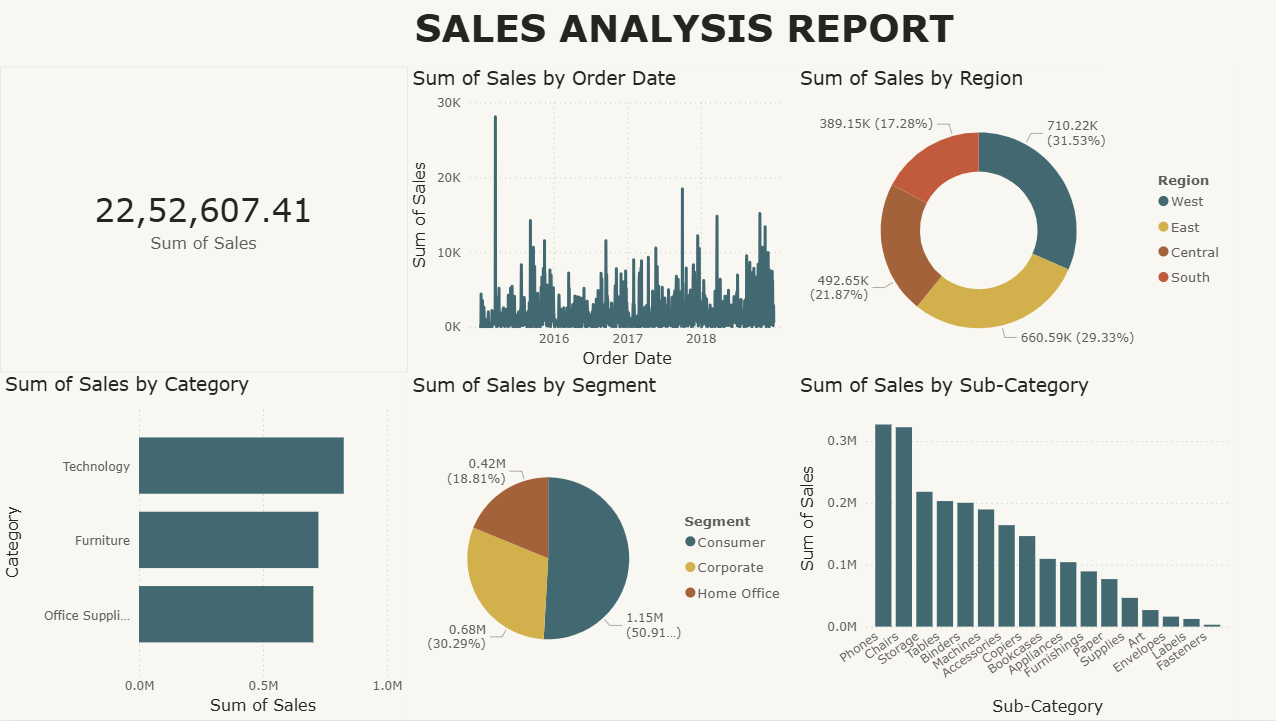

Layout of this report page (visuals, bound fields, positions):
{"tool":"powerbi","page":{"name":"Page 1","canvas":[1280,720],"ordinal":0},"visuals":[{"type":"donutChart","fields":{"Category":["cleaned_sales_data.Region"],"Y":["Sum(cleaned_sales_data.Sales)"]},"box":[795,66.2,438.8,306.2],"z":0},{"type":"clusteredBarChart","fields":{"Category":["cleaned_sales_data.Category"],"Y":["Sum(cleaned_sales_data.Sales)"]},"box":[0,372.9,407.1,347.1],"z":1000},{"type":"lineChart","fields":{"Category":["cleaned_sales_data.Order Date"],"Y":["Sum(cleaned_sales_data.Sales)"]},"box":[407.5,66.2,387.5,306.2],"z":2000},{"type":"card","fields":{"Values":["Sum(cleaned_sales_data.Sales)"]},"box":[0,66.2,407.5,306.2],"z":3000},{"type":"clusteredColumnChart","fields":{"Category":["cleaned_sales_data.Sub-Category"],"Y":["Sum(cleaned_sales_data.Sales)"]},"box":[795,373.8,438.8,346.2],"z":4000},{"type":"pieChart","fields":{"Category":["cleaned_sales_data.Segment"],"Y":["Sum(cleaned_sales_data.Sales)"]},"box":[407.5,373.2,387,347.2],"z":5000},{"type":"textbox","box":[100,0,1003.8,66.2],"z":6000}]}

Visuals, with their boxes in screenshot pixels (x1, y1, x2, y2), scaled from the page's 1280x720 canvas onto the 1276x721 screenshot:
donutChart - cleaned_sales_data.Region x Sum(cleaned_sales_data.Sales): <region>793, 66, 1230, 373</region>
clusteredBarChart - cleaned_sales_data.Category x Sum(cleaned_sales_data.Sales): <region>0, 373, 406, 720</region>
lineChart - cleaned_sales_data.Order Date x Sum(cleaned_sales_data.Sales): <region>406, 66, 793, 373</region>
card - Sum(cleaned_sales_data.Sales): <region>0, 66, 406, 373</region>
clusteredColumnChart - cleaned_sales_data.Sub-Category x Sum(cleaned_sales_data.Sales): <region>793, 374, 1230, 720</region>
pieChart - cleaned_sales_data.Segment x Sum(cleaned_sales_data.Sales): <region>406, 374, 792, 720</region>
textbox: <region>100, 0, 1100, 66</region>
